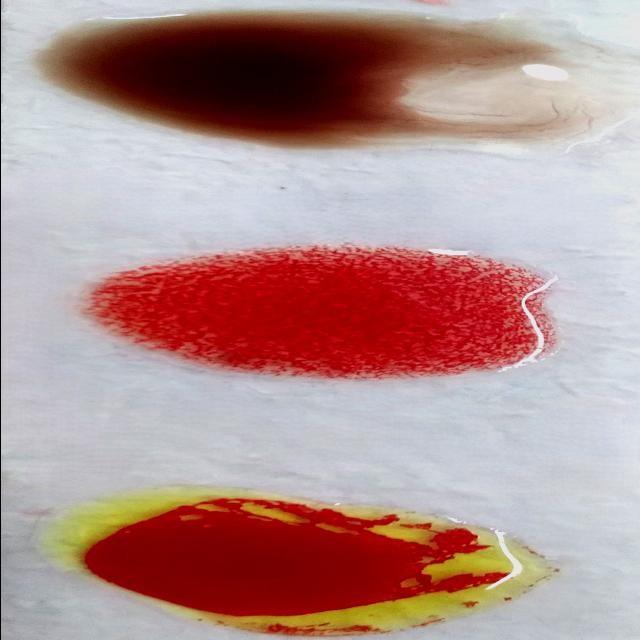B: (63, 499, 539, 629)
D: (81, 251, 554, 377)
